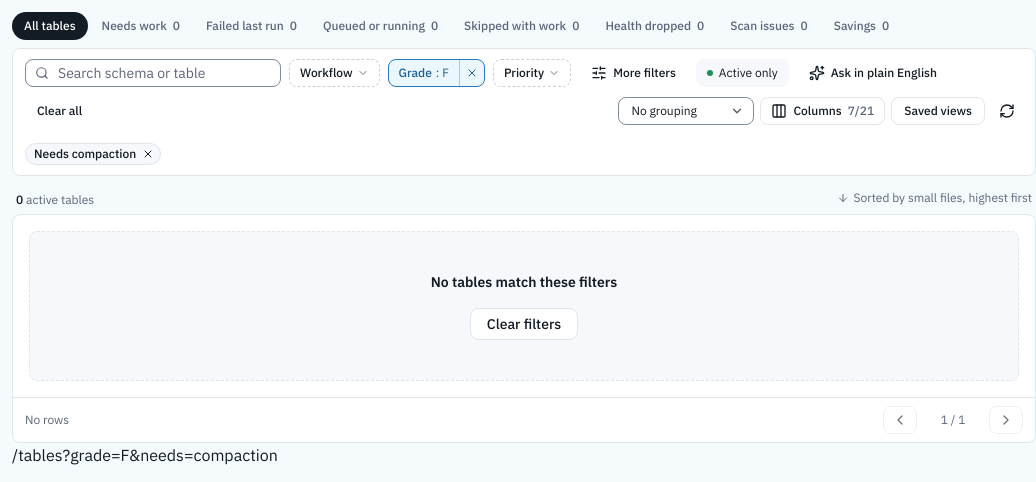
Test: TableExplorerSection filters › shows the empty-filter sentence and clears grade and needs from the URL
Check: the heading "No tables match these filters" is shown, box [431,272,617,292]
Click the button "Clear filters". click: {"x": 524, "y": 324}
box: [470,308,578,340]
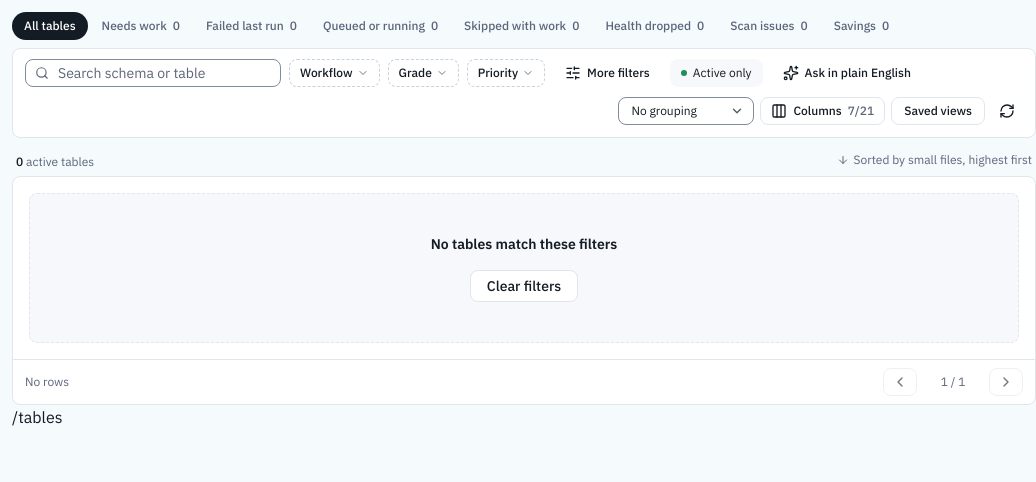
Check: the text with test id "location-probe" no longer shows "grade="
Check: the text with test id "location-probe" no longer shows "needs="
